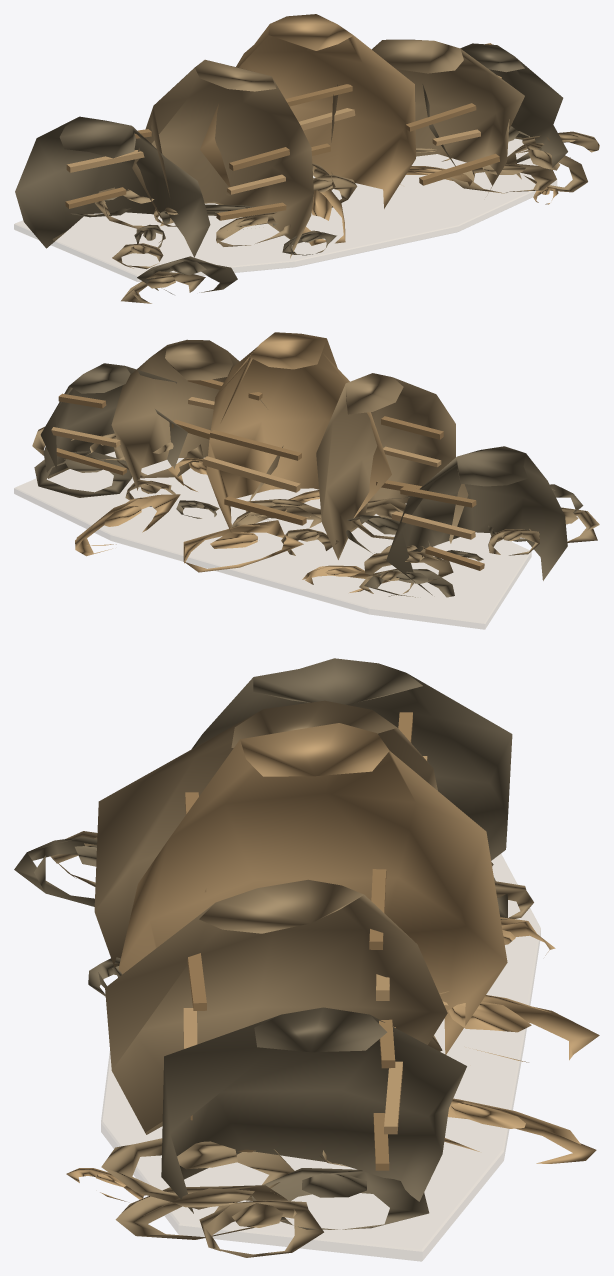
File: cliff-shoulder-set.glb
The picture shows the model from 3 angles, top to bottom: view 1: azimuth 30°, elevation 25°; view 2: azimuth 150°, elevation 25°; view 3: azimuth 270°, elevation 25°; orthographic projection. The views are drawn at different scales.
Visible parts, largest first — view 1: cliff_shoulder_settled_shadow, cliff_shoulder_mass_4003, cliff_shoulder_mass_4002, cliff_shoulder_mass_4001, cliff_shoulder_mass_4004, cliff_shoulder_mass_4005, cliff_shoulder_scree_0, cliff_shoulder_scree_2, cliff_shoulder_scree_25, cliff_shoulder_scree_19, cliff_shoulder_scree_17, cliff_shoulder_scree_9 (+17 smaller); view 2: cliff_shoulder_settled_shadow, cliff_shoulder_mass_4003, cliff_shoulder_mass_4002, cliff_shoulder_mass_4001, cliff_shoulder_mass_4004, cliff_shoulder_mass_4005, cliff_shoulder_scree_6, cliff_shoulder_scree_18, cliff_shoulder_scree_4, cliff_shoulder_mass_4003_strata_1, cliff_shoulder_scree_16, cliff_shoulder_scree_22 (+22 smaller); view 3: cliff_shoulder_mass_4003, cliff_shoulder_mass_4004, cliff_shoulder_mass_4005, cliff_shoulder_settled_shadow, cliff_shoulder_mass_4001, cliff_shoulder_mass_4002, cliff_shoulder_scree_4, cliff_shoulder_scree_25, cliff_shoulder_scree_6, cliff_shoulder_scree_2, cliff_shoulder_scree_13, cliff_shoulder_scree_18 (+4 smaller).
Part boxes in pixels (<box>): cliff_shoulder_settled_shadow: <box>14,137,556,281</box>; cliff_shoulder_mass_4003: <box>200,14,415,208</box>; cliff_shoulder_mass_4002: <box>132,59,313,258</box>; cliff_shoulder_mass_4001: <box>15,116,210,257</box>; cliff_shoulder_mass_4004: <box>331,39,524,192</box>; cliff_shoulder_mass_4005: <box>422,43,567,170</box>; cliff_shoulder_scree_0: <box>137,256,237,294</box>; cliff_shoulder_scree_2: <box>506,143,587,192</box>; cliff_shoulder_scree_25: <box>449,163,556,193</box>; cliff_shoulder_scree_19: <box>121,271,205,303</box>; cliff_shoulder_scree_17: <box>216,212,290,246</box>; cliff_shoulder_scree_9: <box>302,189,345,245</box>; cliff_shoulder_settled_shadow: <box>14,452,531,629</box>; cliff_shoulder_mass_4003: <box>206,332,391,532</box>; cliff_shoulder_mass_4002: <box>316,373,468,559</box>; cliff_shoulder_mass_4001: <box>386,446,567,595</box>; cliff_shoulder_mass_4004: <box>111,339,283,501</box>; cliff_shoulder_mass_4005: <box>40,363,187,478</box>; cliff_shoulder_scree_6: <box>183,520,303,572</box>; cliff_shoulder_scree_18: <box>75,494,180,556</box>; cliff_shoulder_scree_4: <box>34,451,131,497</box>; cliff_shoulder_mass_4003_strata_1: <box>203,456,300,492</box>; cliff_shoulder_scree_16: <box>364,569,454,597</box>; cliff_shoulder_scree_22: <box>364,551,453,581</box>; cliff_shoulder_mass_4003: <box>118,723,507,1054</box>; cliff_shoulder_mass_4004: <box>105,879,447,1134</box>; cliff_shoulder_mass_4005: <box>161,1007,466,1213</box>; cliff_shoulder_settled_shadow: <box>101,854,540,1261</box>; cliff_shoulder_mass_4001: <box>191,658,512,860</box>; cliff_shoulder_mass_4002: <box>94,700,493,977</box>; cliff_shoulder_scree_4: <box>251,1168,429,1229</box>; cliff_shoulder_scree_25: <box>101,1138,294,1209</box>; cliff_shoulder_scree_6: <box>439,991,599,1062</box>; cliff_shoulder_scree_2: <box>115,1185,296,1239</box>; cliff_shoulder_scree_13: <box>199,1200,323,1257</box>; cliff_shoulder_scree_18: <box>444,1098,596,1163</box>.
Size of the model in its own units: 6.38 by 2.02 by 3.49.
